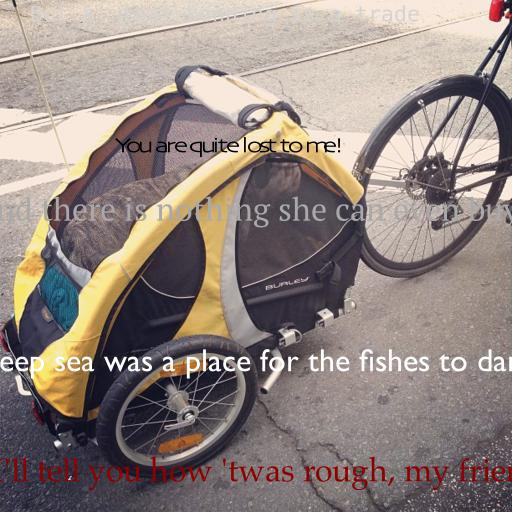Gill Sans: (0, 349, 512, 379)
Menlo: (30, 5, 420, 26)
PT Serif: (0, 196, 512, 228)
Palatino: (0, 456, 512, 491)
Skia: (114, 137, 344, 158)
